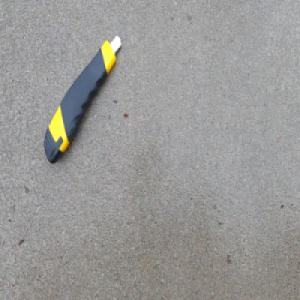Cutter: (44, 32, 124, 164)
